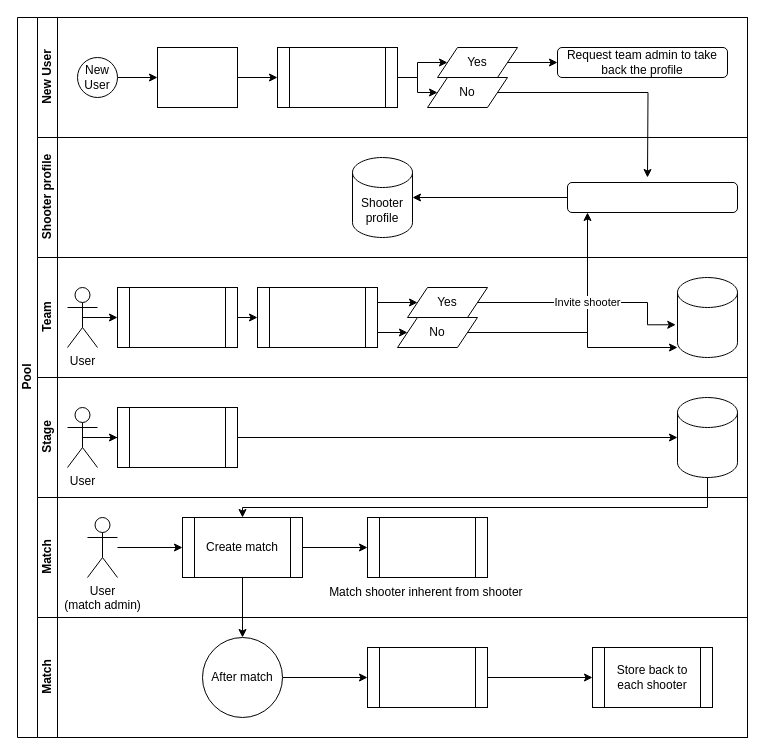
Image size: 765x755. Some labels were removed from this diagram. The centre of each missing label's shape, as x and y in pixels:
Add match shooter: [427,547]
Calculate ELO and statistics: [427,677]
Create a new shooer profile: [652,197]
Create stage: [177,437]
Create team: [177,317]
If he is a existing shooter?: [337,77]
Is invitee has shooter profile?: [317,317]
Registration: [197,77]
Stages: [707,437]
Team shooter list: [707,317]
